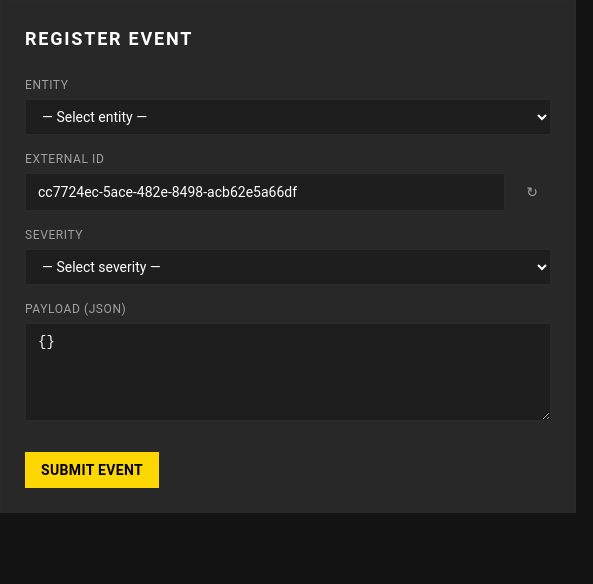
EventForm › shows generic error on unknown failure
Select "Death Star" in the dropdown labelled "Entity" at (288, 117), box [25,99,551,135]
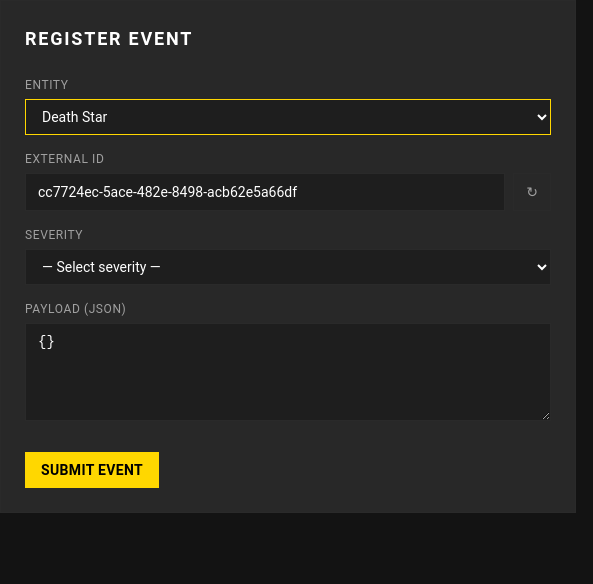
Type "ext-test-1" into the field with placeholder "Unique event identifier" at (265, 192), box [25,173,505,211]
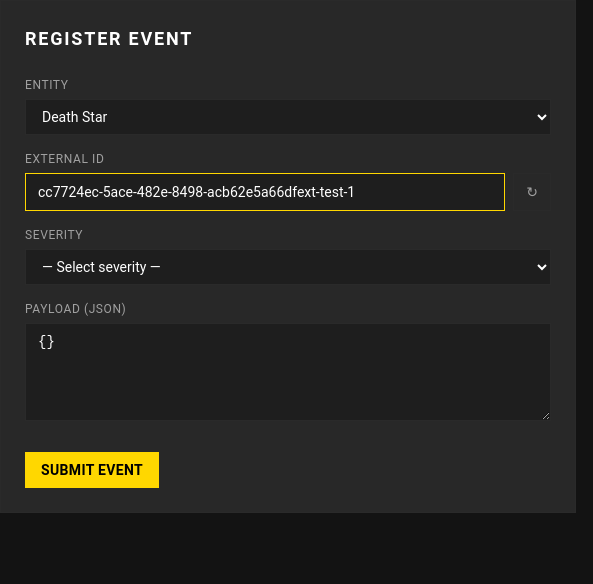
Select "Critical" in the dropdown labelled "Severity" at (288, 267), box [25,249,551,285]
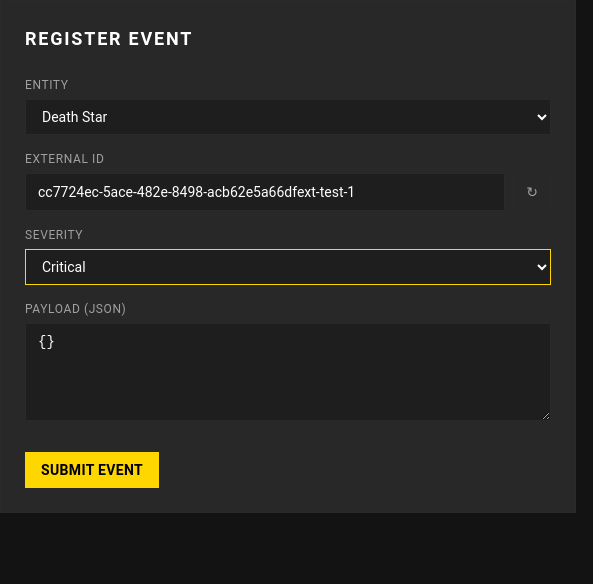
Click the button "Submit Event" at (92, 470), box [25,452,159,488]
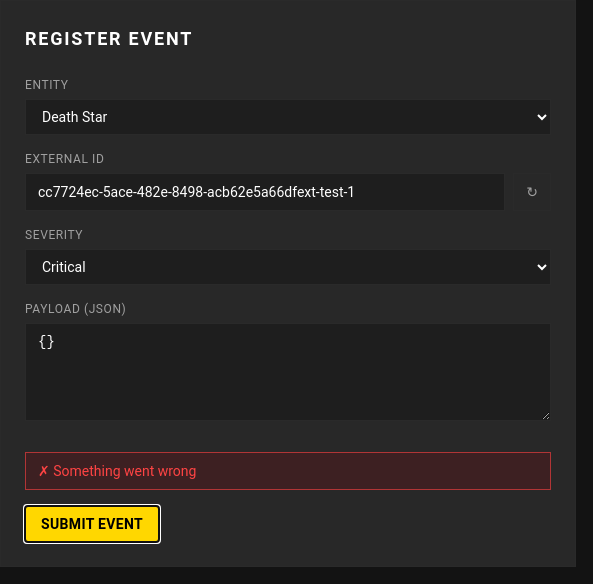
Expected: the text "✗ Something went wrong" is shown, [25,452,551,490]
